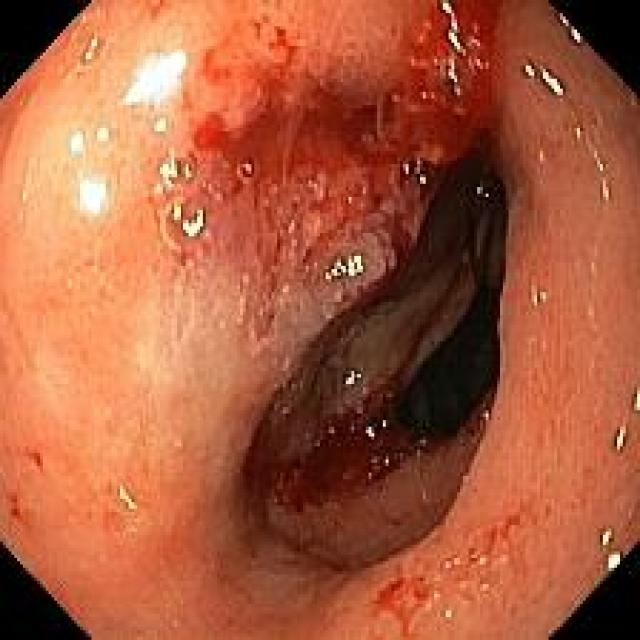blood: (194, 3, 503, 207), (247, 335, 458, 514), (359, 212, 414, 299)
bubbles: (152, 153, 211, 249), (238, 159, 258, 183)
specularity: (123, 53, 188, 103), (444, 6, 467, 54), (82, 184, 109, 216), (327, 257, 363, 281), (185, 212, 204, 238), (545, 72, 563, 94), (564, 18, 581, 40), (121, 487, 137, 510), (162, 162, 179, 177), (87, 40, 98, 62), (72, 138, 84, 154), (618, 429, 627, 450), (450, 60, 458, 82), (608, 554, 621, 567), (98, 129, 110, 143), (602, 531, 611, 546), (156, 122, 167, 132), (526, 67, 535, 76), (175, 208, 180, 220), (534, 288, 537, 306), (349, 374, 354, 384), (605, 185, 609, 197), (367, 431, 375, 437), (481, 585, 489, 591), (445, 612, 452, 618), (577, 130, 582, 138), (638, 393, 640, 411), (453, 559, 460, 564), (245, 166, 251, 171), (186, 166, 189, 176), (422, 177, 426, 184), (445, 564, 452, 568), (405, 165, 408, 174)
